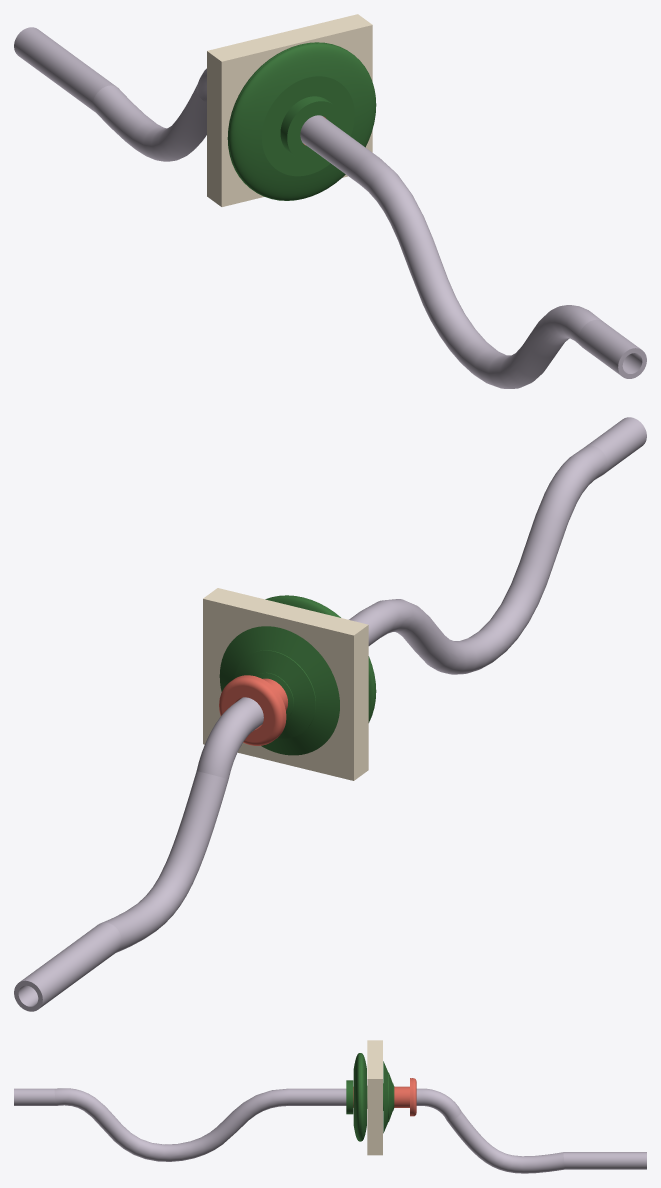
The model's file is drainagesystem.gltf.
The picture shows the model from 3 angles, top to bottom: view 1: azimuth 30°, elevation 25°; view 2: azimuth 150°, elevation 25°; view 3: azimuth 270°, elevation 25°; orthographic projection. The views are drawn at different scales.
Visible parts, largest first — view 1: plastic tube.001, bottom cone, skin.001, tube sealing (1); view 2: plastic tube.001, skin.001, plunger, pull sheet, bottom cone; view 3: plastic tube.001, skin.001, bottom cone, pull sheet, plunger, tube sealing (1).
Part boxes in pixels (bbox=[...]): plastic tube.001: bbox=[14, 27, 646, 388]; bottom cone: bbox=[227, 42, 376, 200]; skin.001: bbox=[207, 14, 372, 206]; tube sealing (1): bbox=[280, 96, 343, 161]; plastic tube.001: bbox=[14, 417, 646, 1011]; skin.001: bbox=[203, 588, 368, 780]; plunger: bbox=[219, 626, 339, 755]; pull sheet: bbox=[219, 675, 287, 745]; bottom cone: bbox=[265, 595, 376, 722]; plastic tube.001: bbox=[14, 1088, 646, 1173]; skin.001: bbox=[367, 1040, 382, 1155]; bottom cone: bbox=[353, 1053, 366, 1141]; pull sheet: bbox=[353, 1078, 416, 1116]; plunger: bbox=[383, 1061, 394, 1133]; tube sealing (1): bbox=[346, 1080, 353, 1114].
Size of the model in its own units: 1.41 by 1.98 by 9.8.
